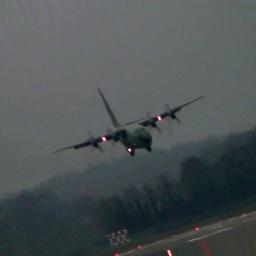Airplane: (53, 85, 205, 158)
